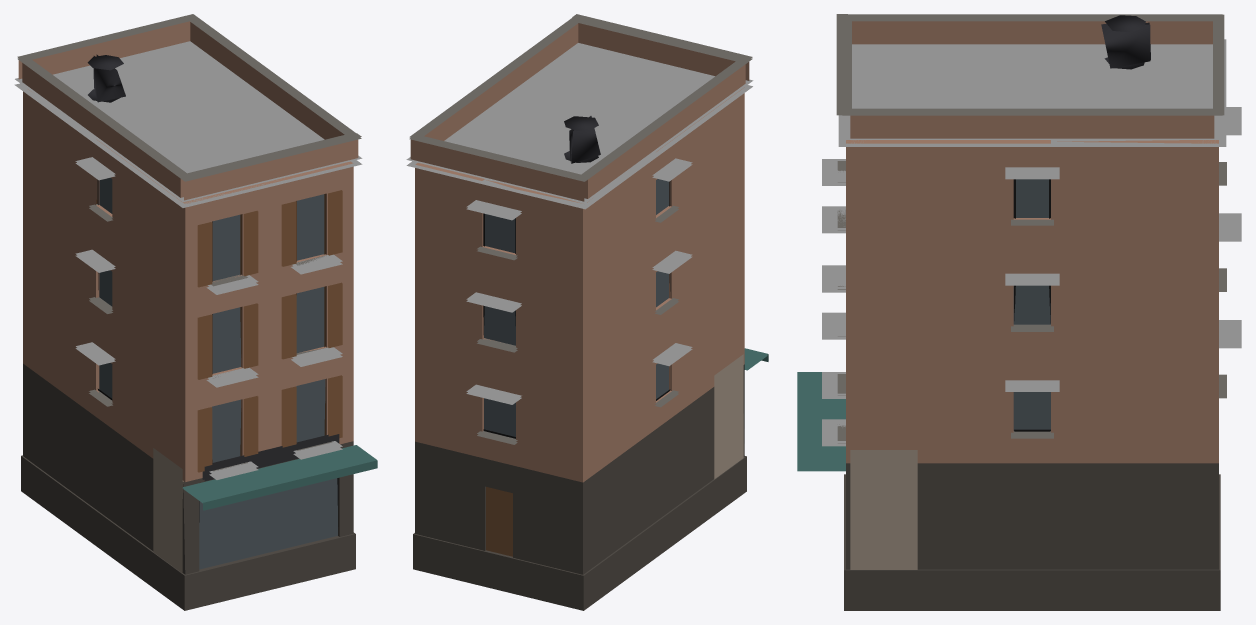
Rendered from shop_house_6x10_4_far.glb.
3 renders of one model, left to right at view 1: azimuth 30°, elevation 25°; view 2: azimuth 150°, elevation 25°; view 3: azimuth 270°, elevation 25°, orthographic. The views are drawn at different scales.
Parts seen in each view (by area): view 1: shop_house_6x10_4; view 2: shop_house_6x10_4; view 3: shop_house_6x10_4.
Boxes of the visible parts, x1=… form: shop_house_6x10_4: x1=14, y1=14, x2=377, y2=610; shop_house_6x10_4: x1=406, y1=14, x2=768, y2=610; shop_house_6x10_4: x1=797, y1=14, x2=1241, y2=610.
Size of the model in its own units: 7.22 by 15.25 by 11.91.
